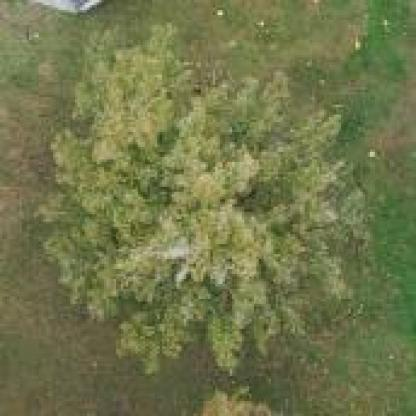Deciduous Tree: (20, 35, 378, 374)
